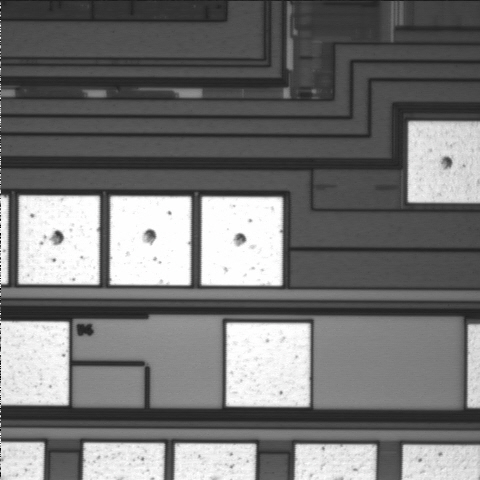pad: (201, 197, 283, 286), (19, 196, 100, 285), (110, 196, 191, 285), (226, 323, 310, 407)
